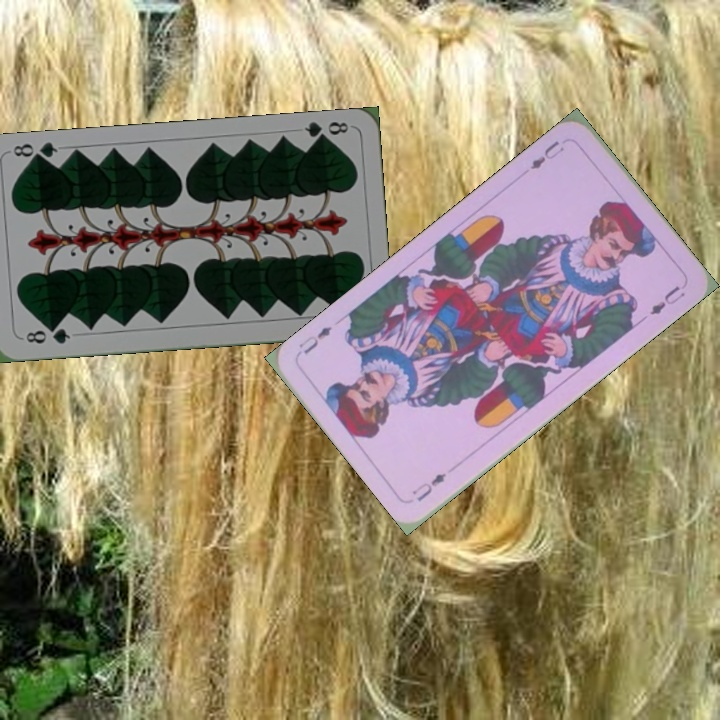EU: (526, 136, 567, 173), (408, 468, 449, 504)
G8: (300, 117, 351, 145), (18, 323, 73, 347)
